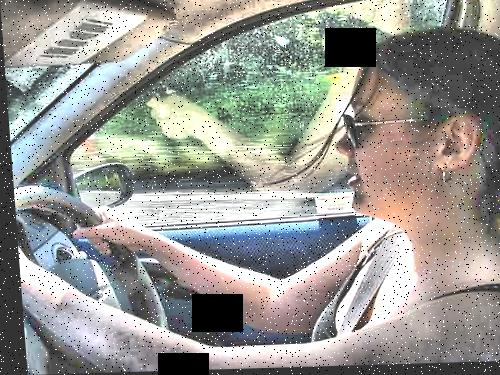seatbelt: (317, 224, 409, 341)
